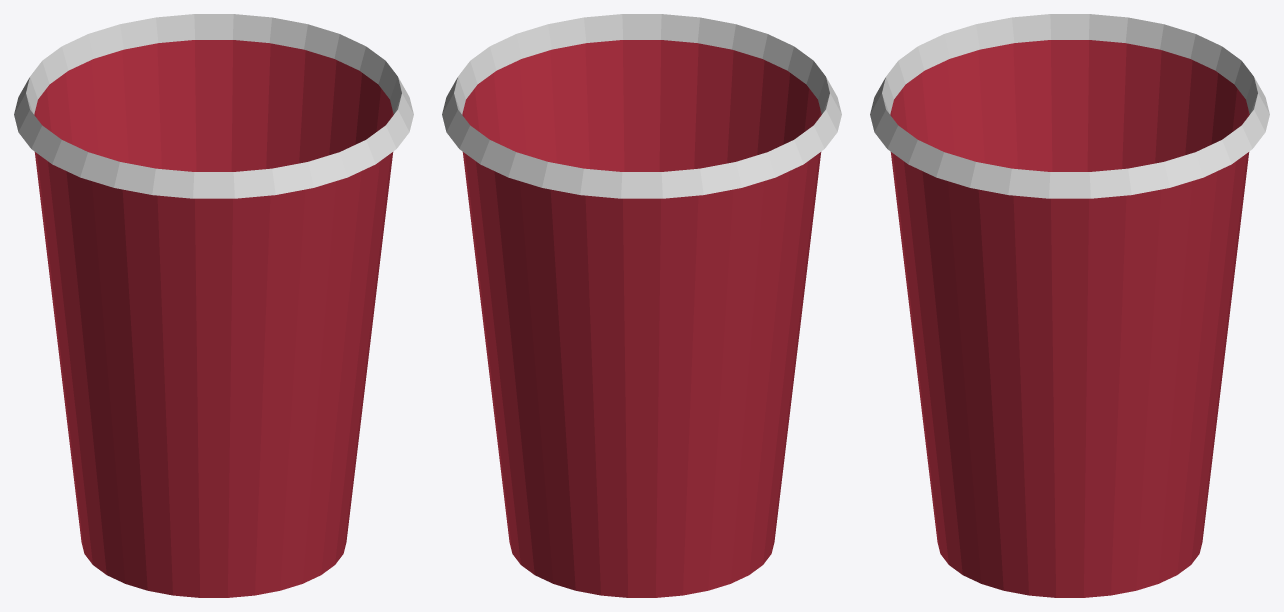
Rendered from Cup.fbx.
The picture shows the model from 3 angles, left to right: view 1: azimuth 30°, elevation 25°; view 2: azimuth 150°, elevation 25°; view 3: azimuth 270°, elevation 25°; orthographic projection.
Visible parts, largest first — view 1: Cup; view 2: Cup; view 3: Cup.
Part boxes in pixels (x1=…): Cup: x1=14, y1=14, x2=413, y2=597; Cup: x1=442, y1=14, x2=841, y2=597; Cup: x1=870, y1=14, x2=1269, y2=597.
Size of the model in its own units: 36.63 by 45.65 by 36.83.
